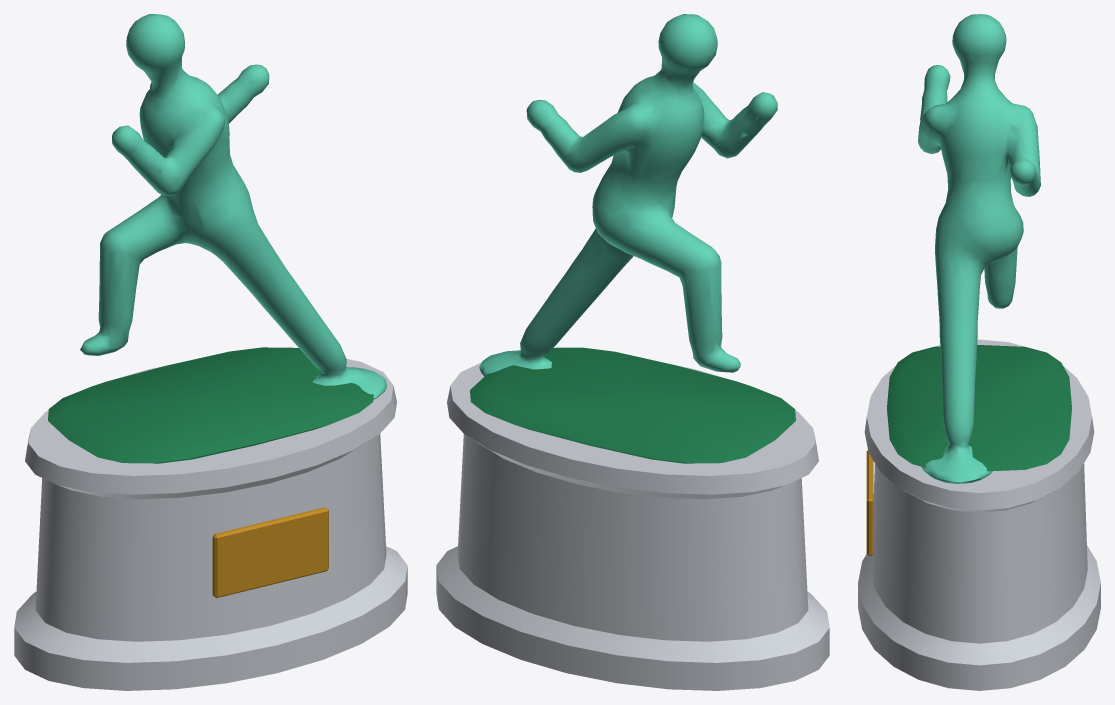
File: estatua_atleta.glb
3 views of the same model, side by side, from view 1: azimuth 30°, elevation 25°; view 2: azimuth 150°, elevation 25°; view 3: azimuth 270°, elevation 25° (orthographic). The views are drawn at different scales.
Parts seen in each view (by area): view 1: estatua_atleta; view 2: estatua_atleta; view 3: estatua_atleta.
Part boxes in pixels (left/top/right/bottom): estatua_atleta: left=14, top=14, right=407, bottom=690; estatua_atleta: left=436, top=14, right=829, bottom=690; estatua_atleta: left=858, top=14, right=1100, bottom=690.
Bounding box in the file's own units: 2.22 × 3.55 × 1.38.
Materials: 1 (1 with a texture image).
